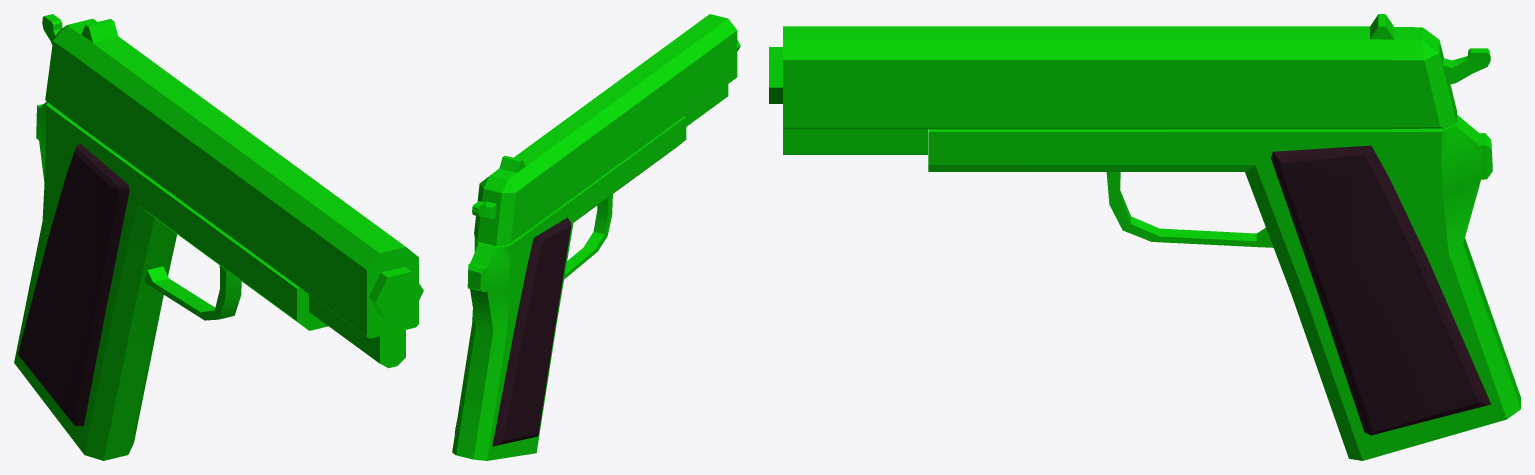
File: Pistol_Barrrel.fbx
3 views of the same model, side by side, from view 1: azimuth 30°, elevation 25°; view 2: azimuth 150°, elevation 25°; view 3: azimuth 270°, elevation 25° (orthographic). The views are drawn at different scales.
Visible parts, largest first — view 1: Pistol; view 2: Pistol; view 3: Pistol.
Part boxes in pixels (box(x1,y1,x2,y2)): Pistol: box(14, 14, 423, 460); Pistol: box(452, 14, 740, 460); Pistol: box(769, 14, 1520, 460).
Size of the model in its own units: 0.0188 by 0.1117 by 0.176.
